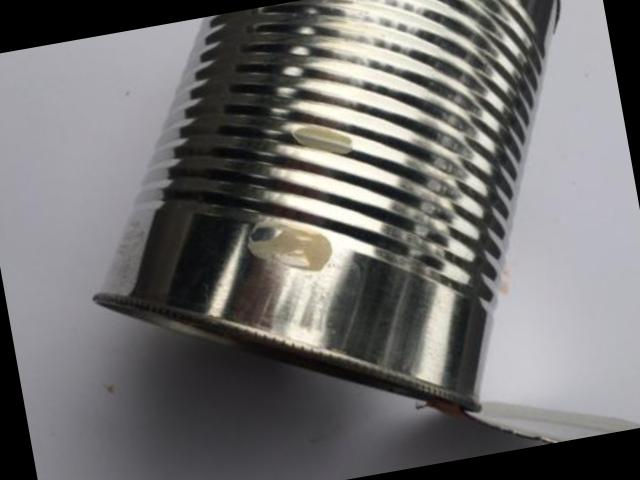metal: (97, 0, 639, 442)
